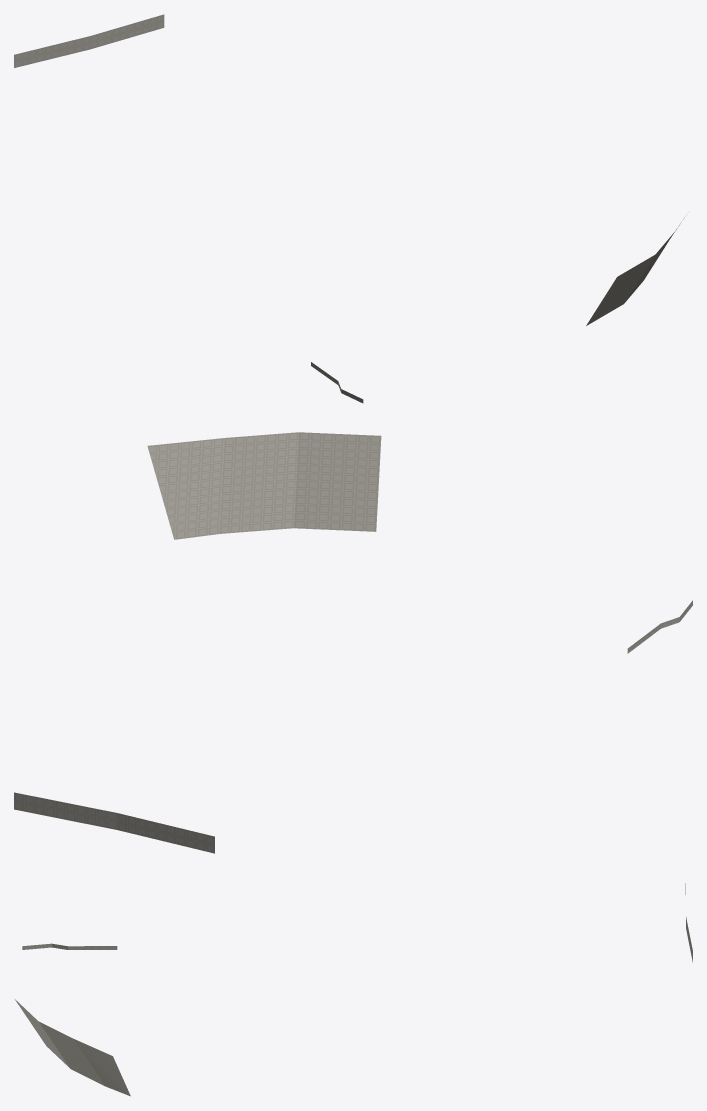
Rendered from kd_stage_135fe0_0_21.glb.
The picture shows the model from 3 angles, top to bottom: view 1: azimuth 30°, elevation 25°; view 2: azimuth 150°, elevation 25°; view 3: azimuth 270°, elevation 25°; orthographic projection. The views are drawn at different scales.
Parts seen in each view (by area): view 1: kd_stage_135fe0_0_21; view 2: kd_stage_135fe0_0_21; view 3: kd_stage_135fe0_0_21.
Part boxes in pixels (left/top/right/bottom): kd_stage_135fe0_0_21: left=14, top=14, right=684, bottom=403; kd_stage_135fe0_0_21: left=14, top=432, right=692, bottom=853; kd_stage_135fe0_0_21: left=15, top=883, right=692, bottom=1096.
Size of the model in its own units: 105 by 20.9 by 175.
Materials: 1 (1 with a texture image).
